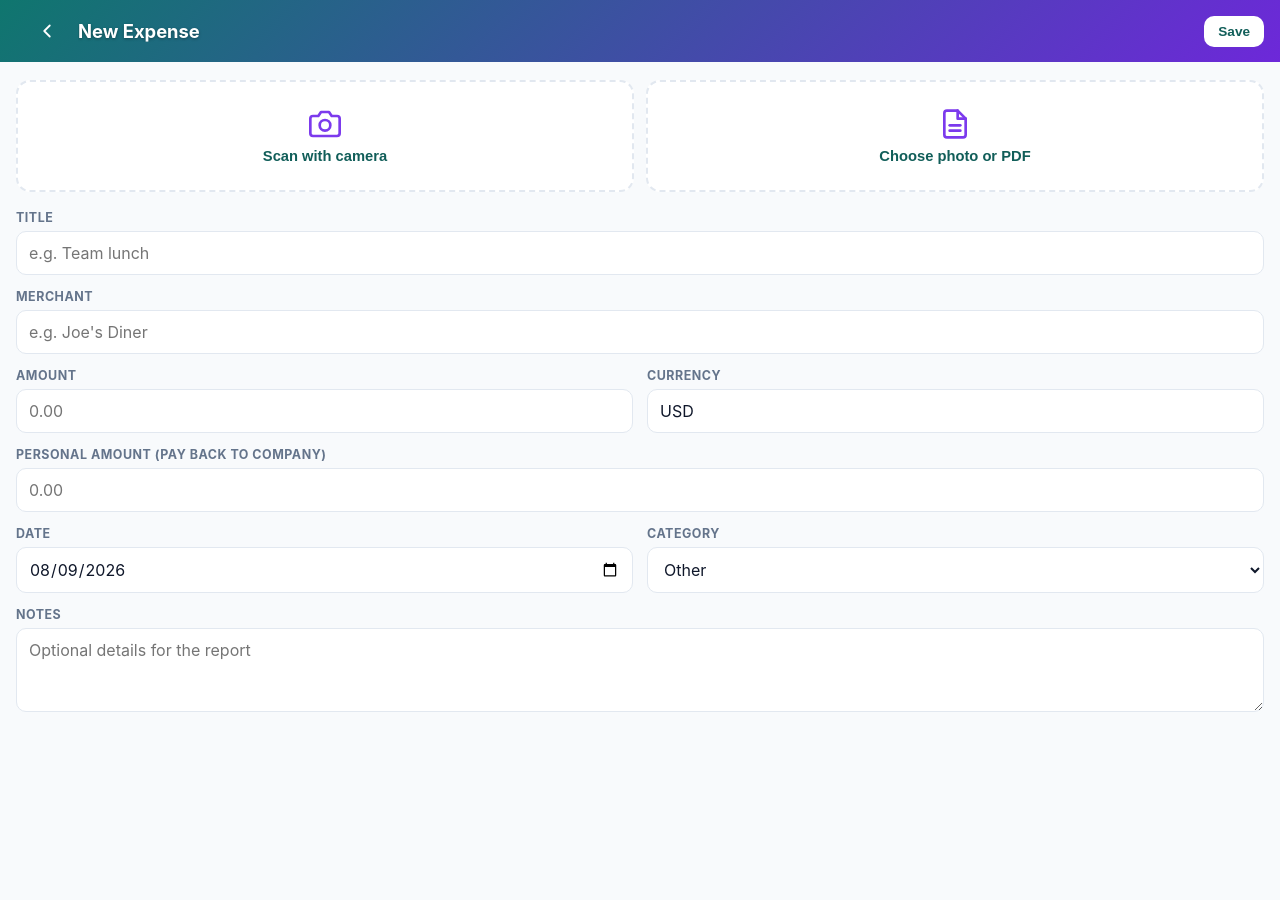
Test case: ExpenseEditor submit-time validation › refuses a personal amount above the expense total instead of clamping it
Type "Dinner" into the field with placeholder "e.g. Team lunch".
click(640, 253); type("Dinner")  # box [16, 231, 1264, 275]
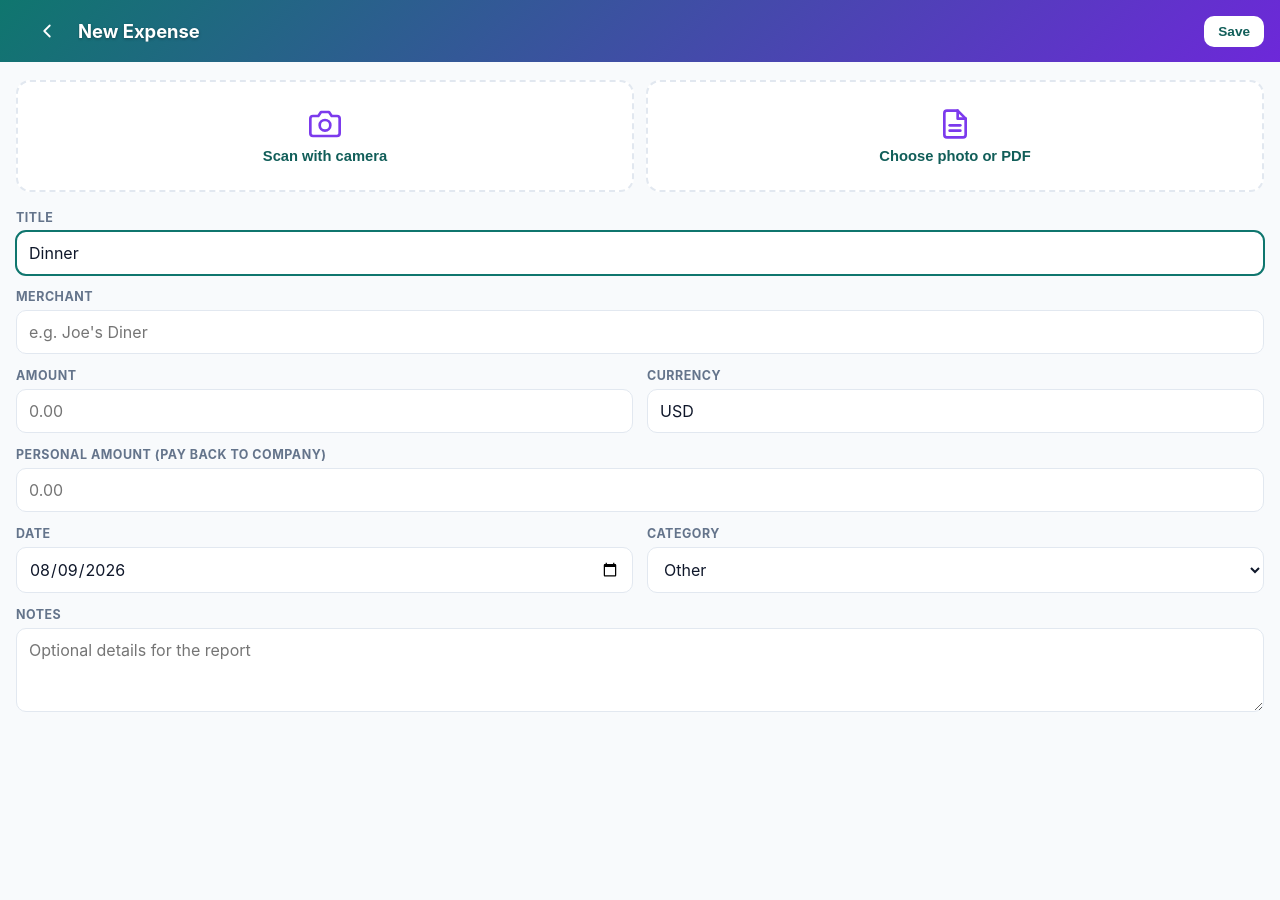
Type "50" into the number field labelled "Amount".
click(324, 411); type("50")  # box [16, 389, 633, 433]
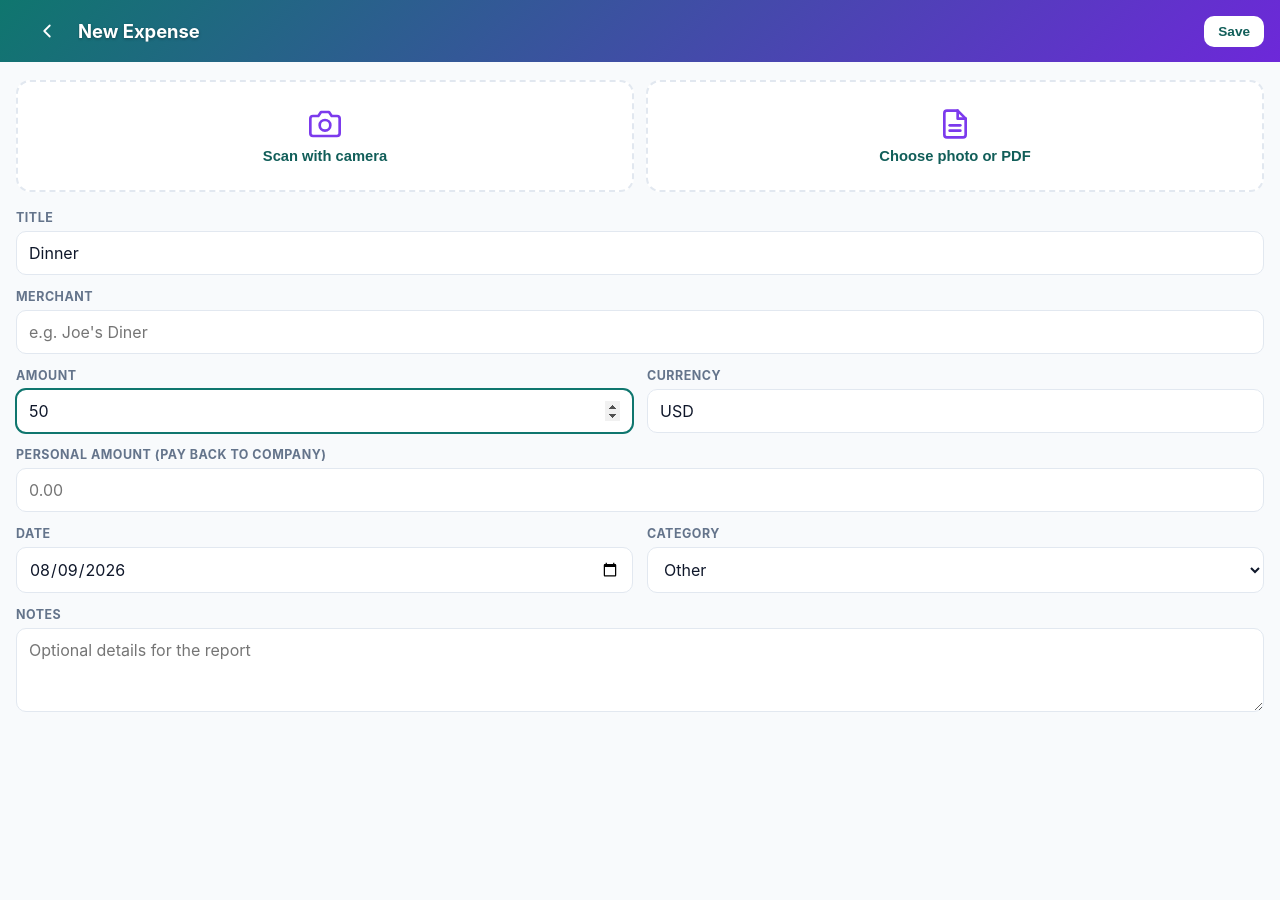
Type "80" into the number field labelled "Personal amount (pay back to company)".
click(640, 490); type("80")  # box [16, 468, 1264, 512]
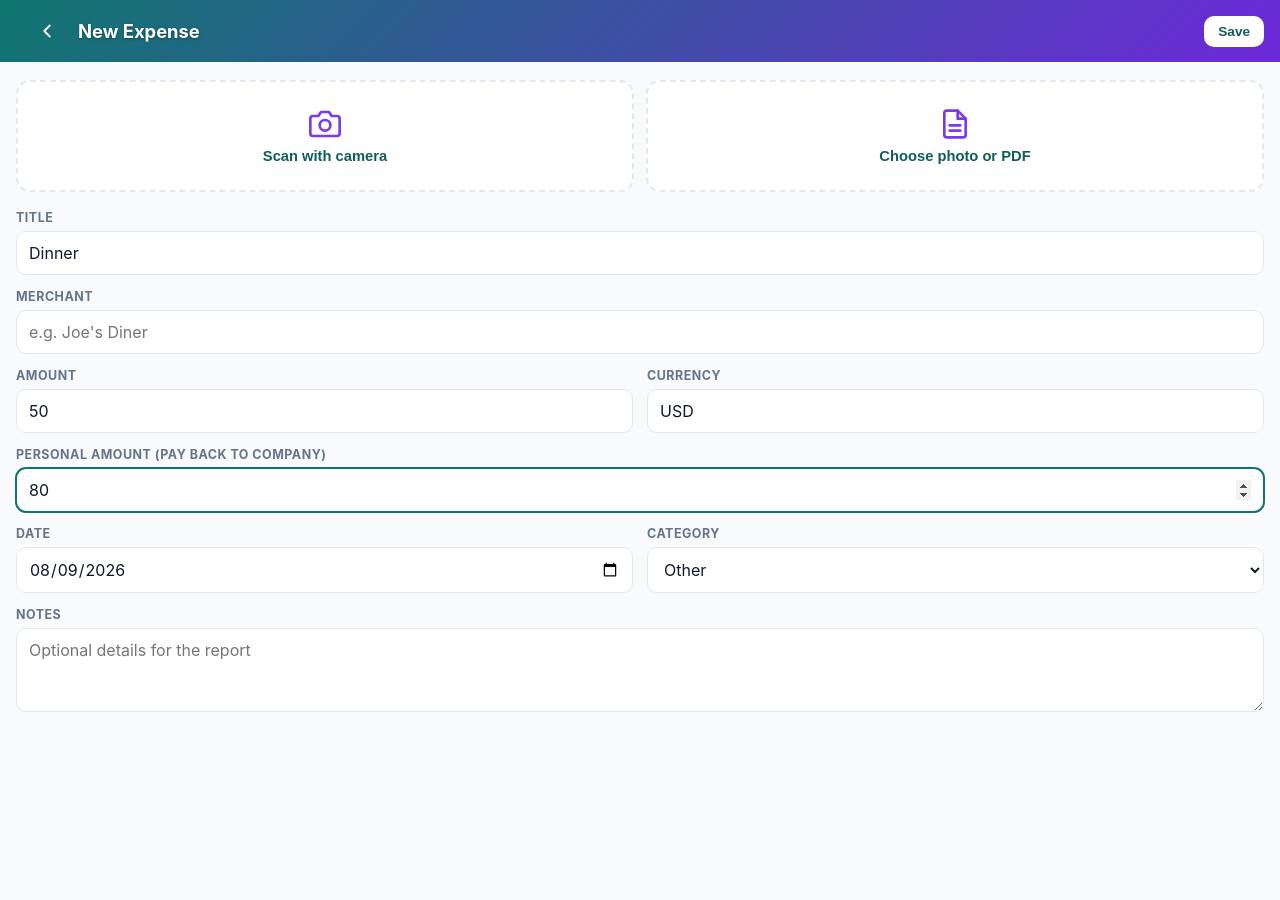
Click the button "Save".
click(1234, 31)  # box [1204, 16, 1264, 46]
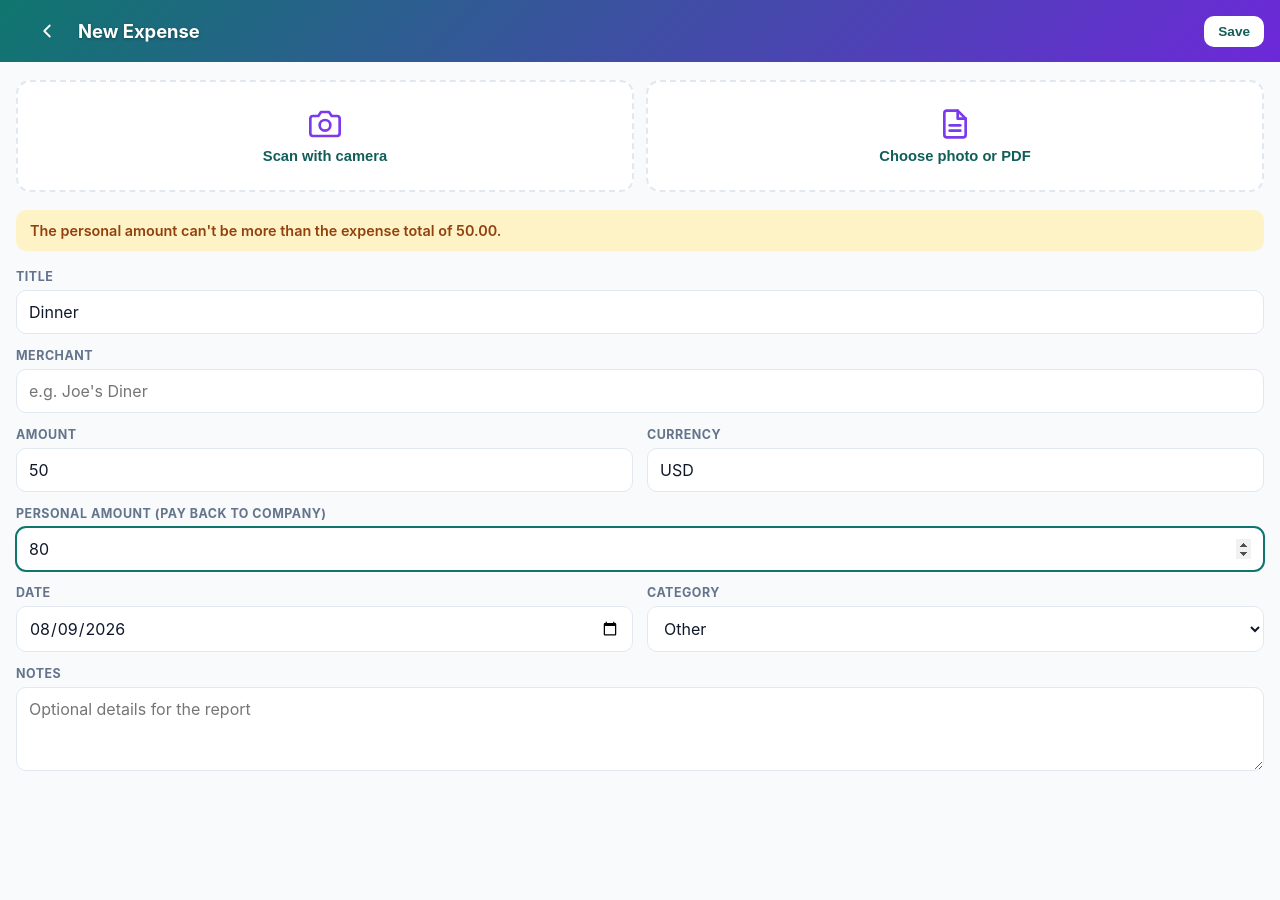
Check: the message reads "The personal amount can't be more than the expense total of 50.00.", box [30, 222, 501, 239]
